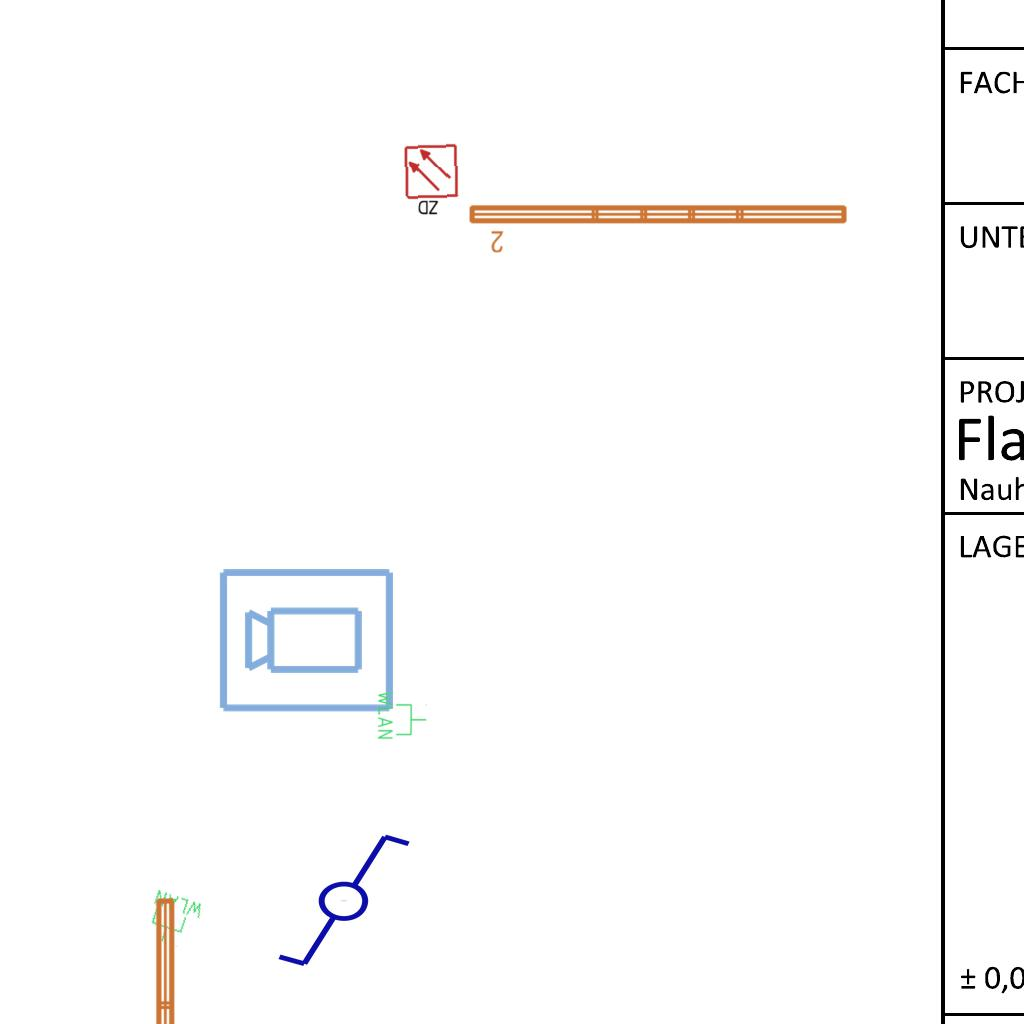Ambulanz_Pendelleuchte_LED: (465, 199, 852, 255), (150, 893, 206, 1024)
KFO_Kamera_mit_Festobjektiv: (216, 562, 398, 716)
WLAN: (141, 887, 207, 953), (376, 689, 428, 741)
Wechselschalter: (257, 827, 414, 971)
ZD_Melder_in_Zwischendecke_mit_Revisionsoeffnung_mind_40_x_40_cm: (402, 143, 463, 219)
